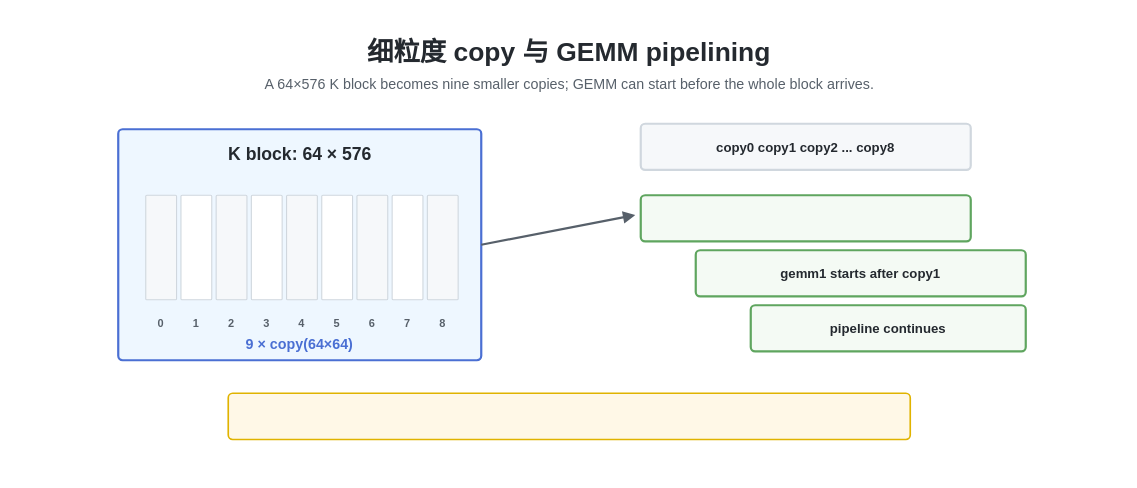
Some shapes in this 1137 by 488 pixel diagram are drawn without their labels. Here are the shapes that lost their labels. From the top down, the centre of each, then its label:
At point 805,218: "gemm0 starts after copy0".
At point 569,416: "粒度从 64×576 降到 64×64，内存延迟更容易被 GEMM 吃掉。".
